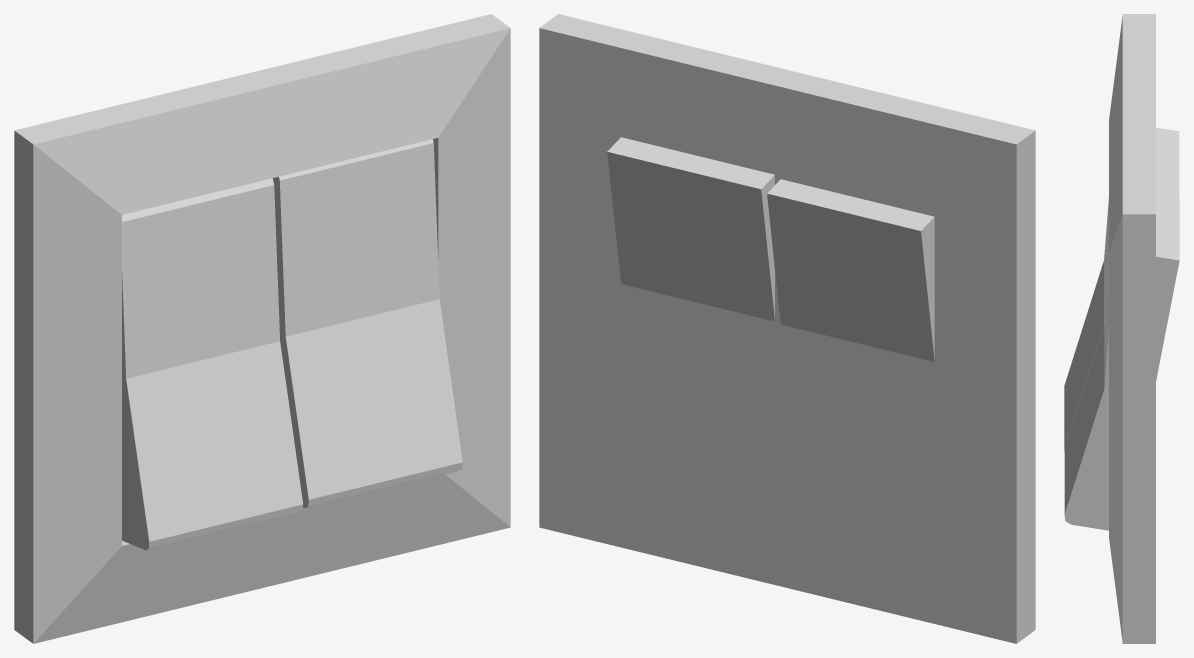
Rendered from Wallswitch(11).fbx.
3 renders of one model, left to right at view 1: azimuth 30°, elevation 25°; view 2: azimuth 150°, elevation 25°; view 3: azimuth 270°, elevation 25°, orthographic. The views are drawn at different scales.
Parts seen in each view (by area): view 1: Wallswitch(11); view 2: Wallswitch(11); view 3: Wallswitch(11).
Boxes of the visible parts, x1,y1,x2,y2 form: Wallswitch(11): (14, 14, 510, 643); Wallswitch(11): (539, 14, 1035, 643); Wallswitch(11): (1064, 14, 1179, 643).
Size of the model in its own units: 11.67 by 11.67 by 2.84.
